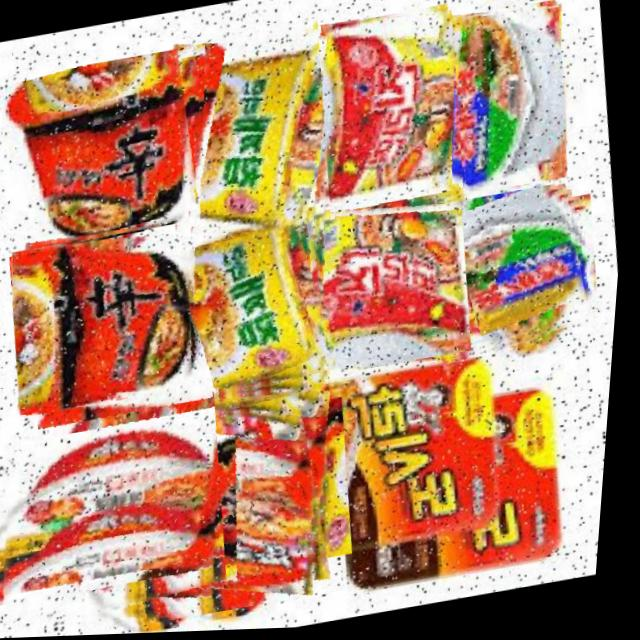Miscellaneous: (88, 368, 358, 632), (0, 384, 250, 638), (120, 16, 348, 258), (1, 220, 228, 448), (271, 4, 480, 236), (0, 47, 215, 265), (138, 206, 346, 414), (288, 189, 486, 381), (404, 0, 584, 205), (417, 182, 606, 366)
